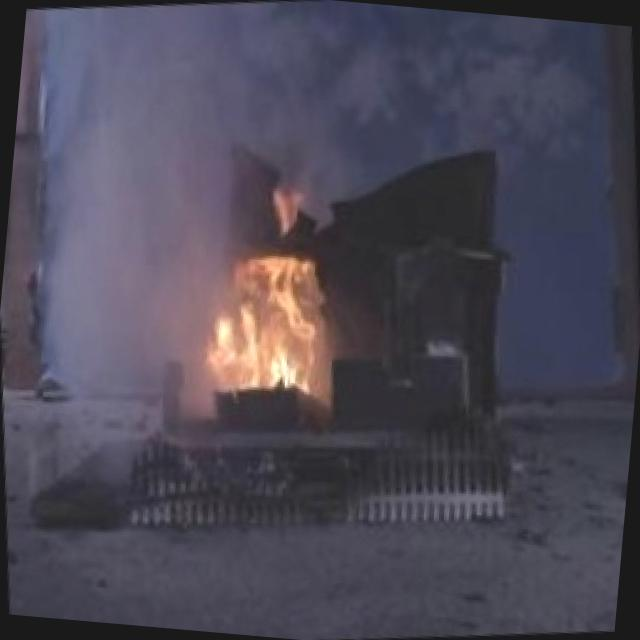fire: (171, 218, 374, 454)
smoke: (6, 0, 360, 266)
